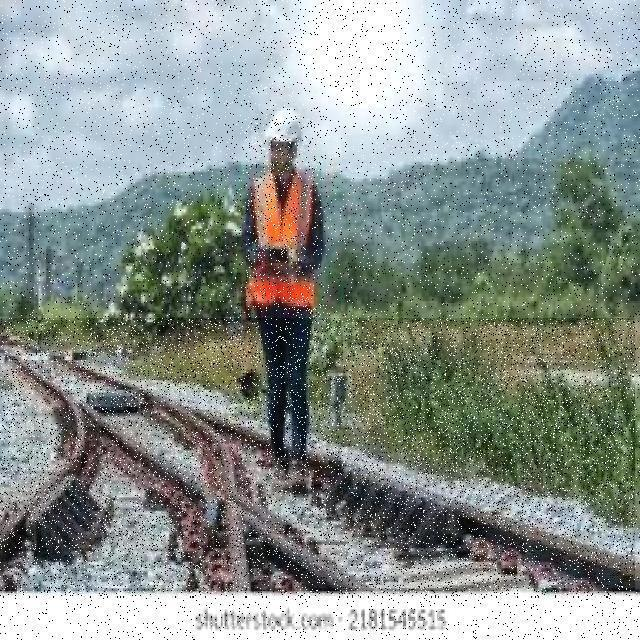rail: (1, 320, 636, 598)
